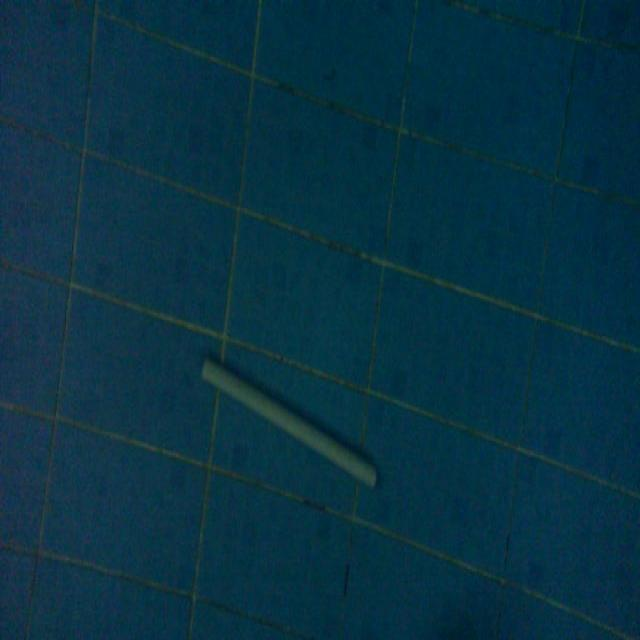Cube: (199, 350, 379, 494)
